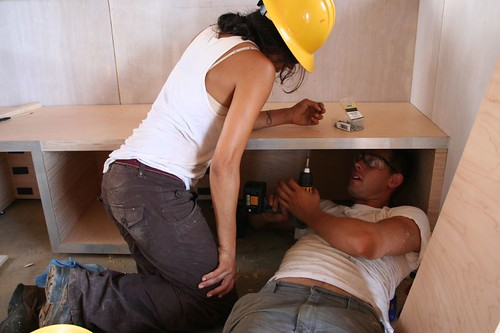person hardhat: (93, 1, 315, 333)
